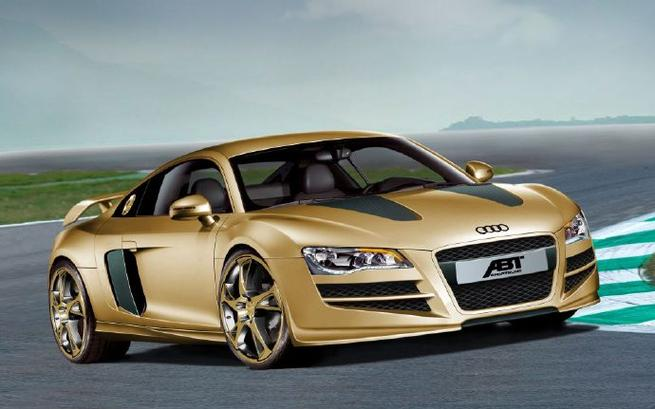汽车: (45, 120, 605, 368)
